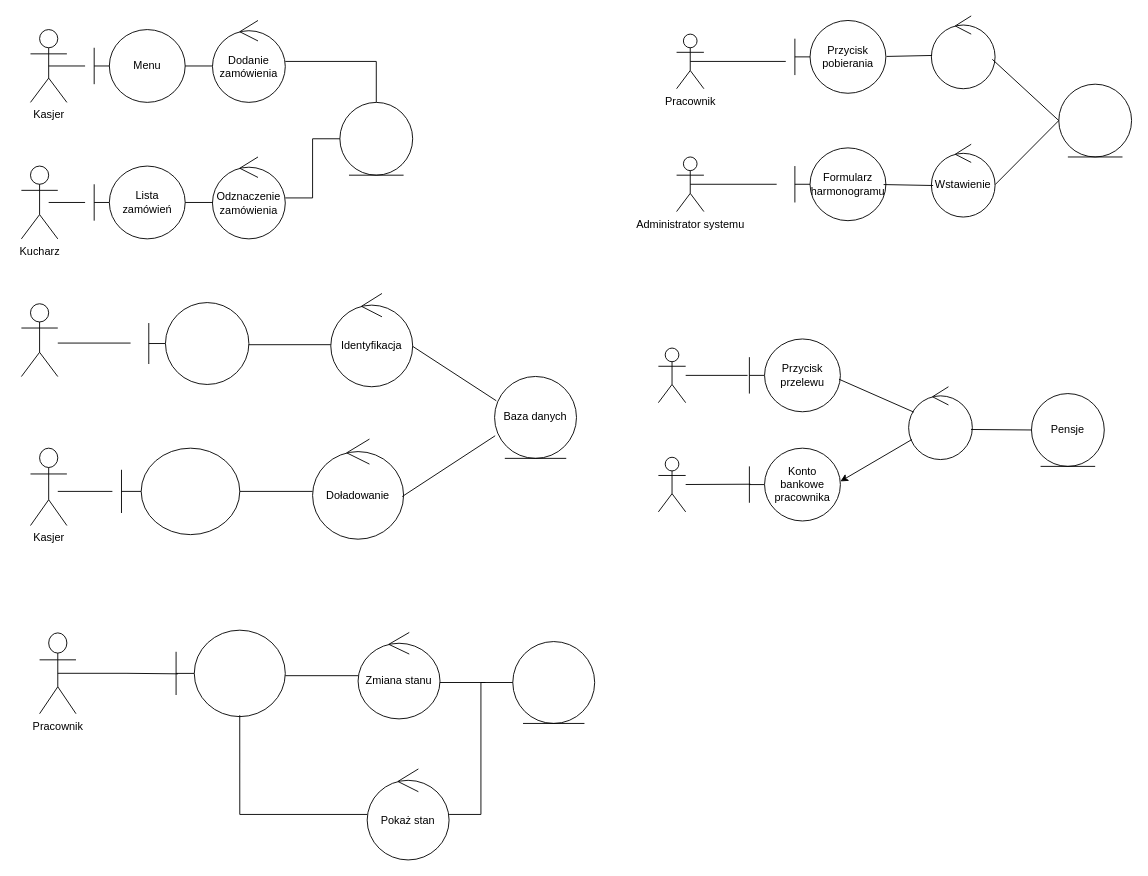
Some shapes in this 1148 by 876 pixel diagram are drawn without their labels. The centre of each missing label's shape, as x and y in pixels:
Atrakcja: the point at 553,682
Bank: the point at 671,484
Bramka: the point at 198,343
Formularz doładowania: the point at 180,491
Harmonogram: the point at 1095,120
Kontroler stanu atrakcji: the point at 230,673
Księgowy: the point at 671,375
Paseczek: the point at 39,340
Pobranie: the point at 962,52
Wypłacenie pensji: the point at 940,423
Zamówienie: the point at 376,138
